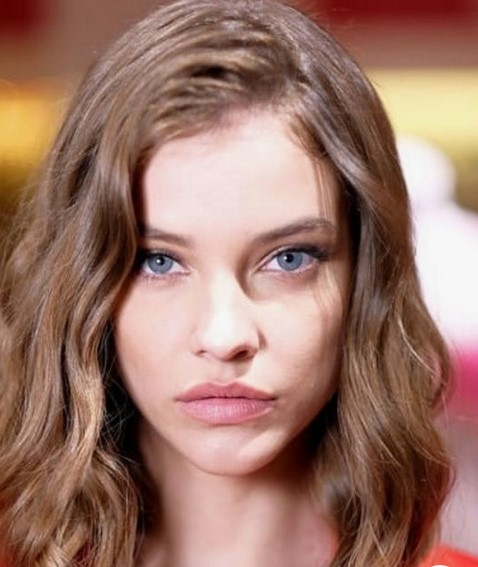face_no_mask: (60, 30, 396, 491)
